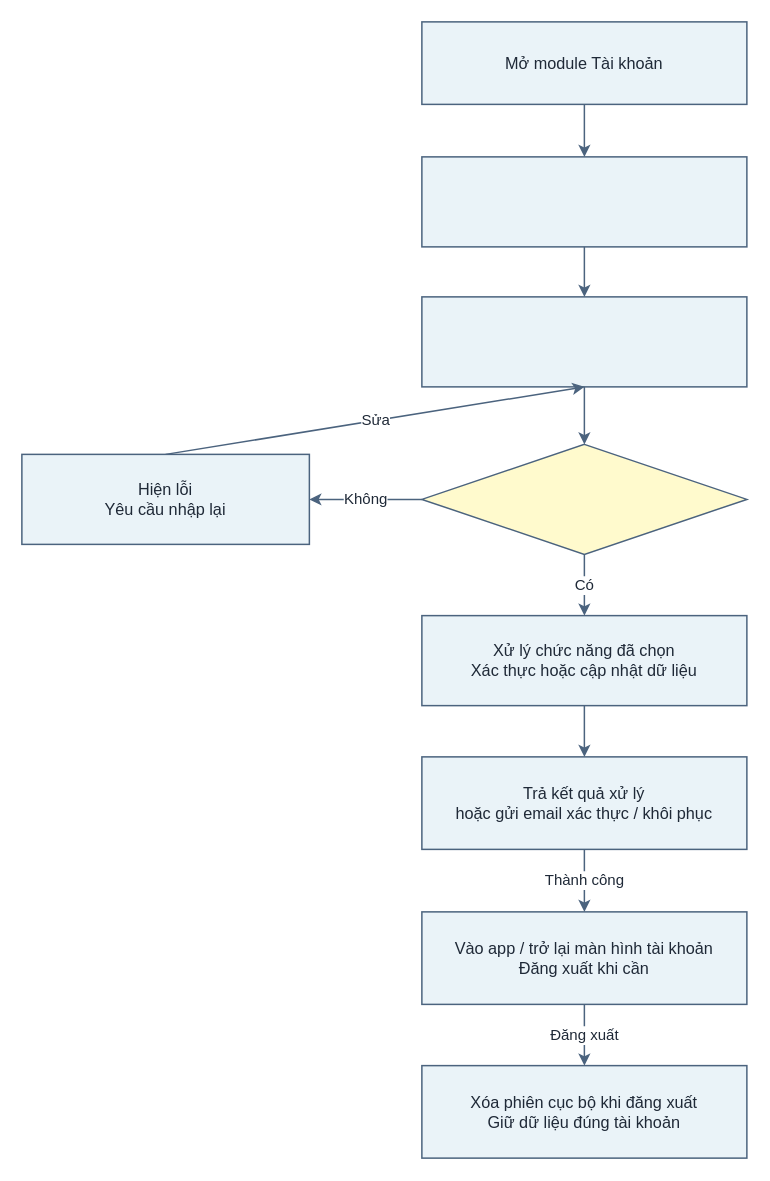
The diagram is 770 pixels wide and 1181 high, and some of its shapes have lost their labels. Here are the shapes that lost their labels. From the top down, the centre of each, then its label:
the point at 583,201: Chọn đăng ký / đăng nhập quên mật khẩu / hồ sơ
the point at 583,341: Nhập thông tin theo chức năng Gửi yêu cầu xác thực
the point at 583,498: Thông tin hợp lệ
